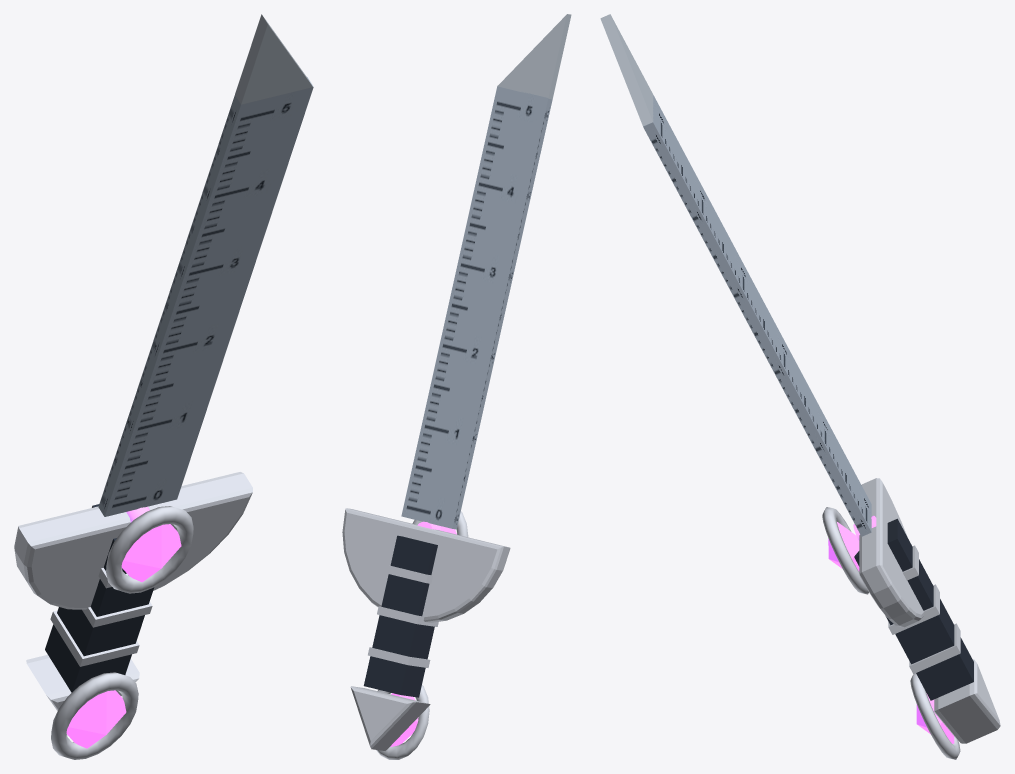
The model's file is hand_eqsu2.glb.
The picture shows the model from 3 angles, left to right: view 1: azimuth 30°, elevation 25°; view 2: azimuth 150°, elevation 25°; view 3: azimuth 270°, elevation 25°; orthographic projection. The views are drawn at different scales.
Bounding box in the file's own units: 1.27 × 4.91 × 2.45.
Materials: 6 (1 with a texture image).
